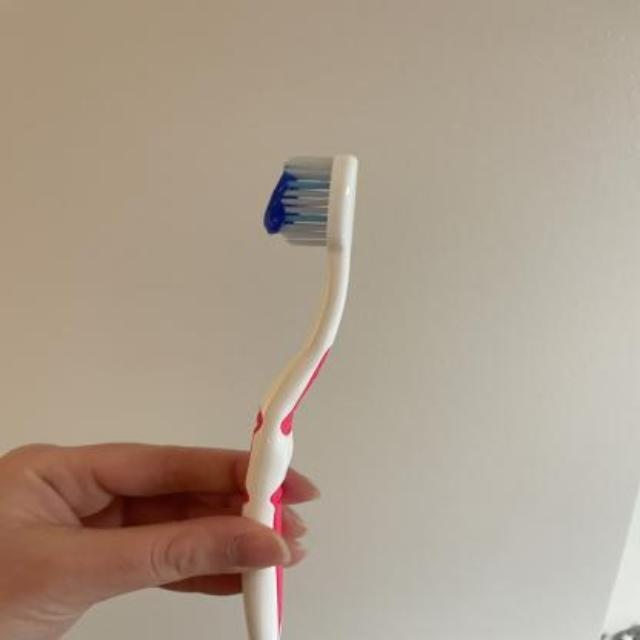toothbrush: (243, 142, 375, 640)
